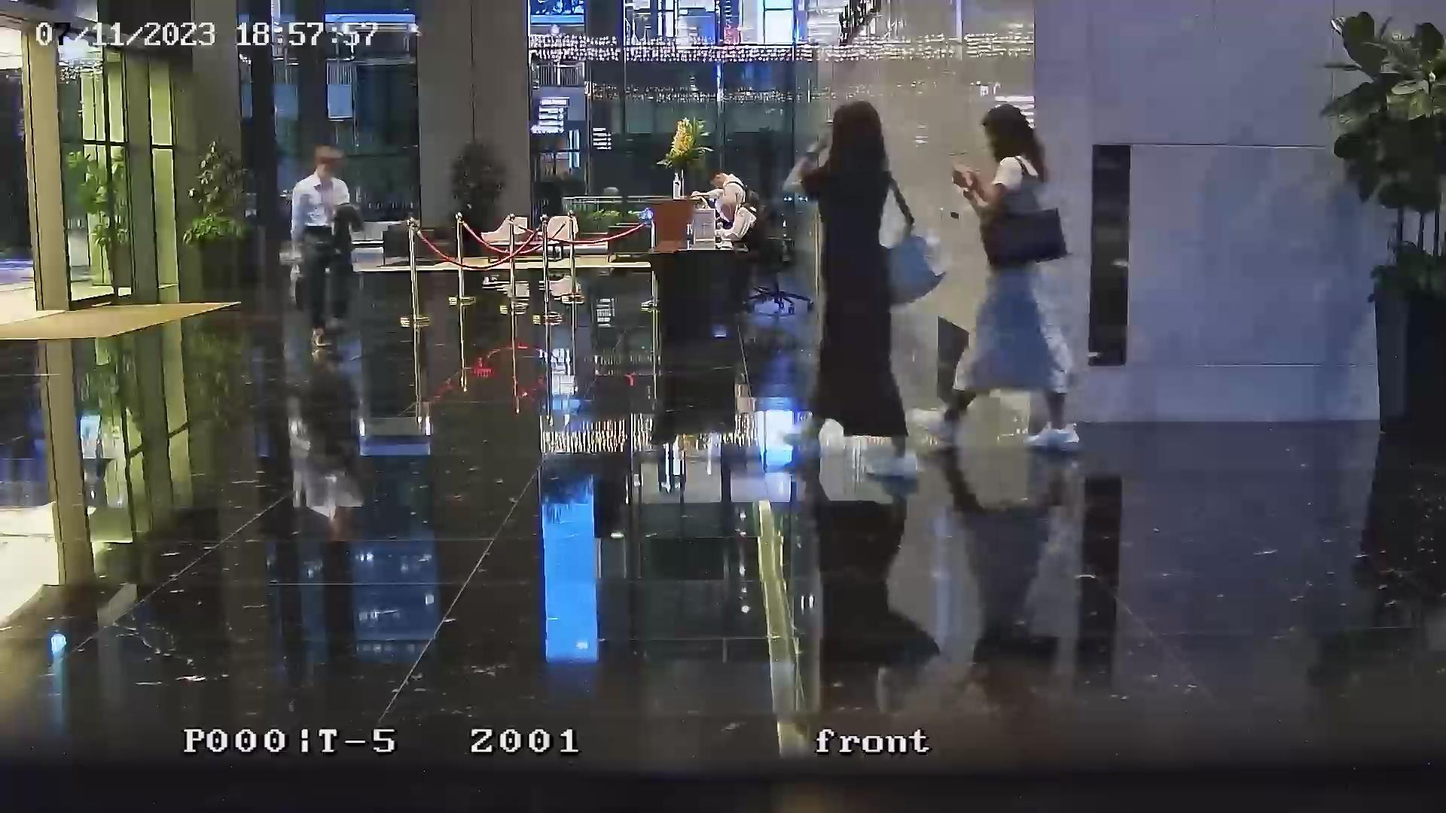person: (936, 105, 1084, 452), (785, 99, 911, 446), (288, 144, 357, 333), (715, 195, 771, 264), (706, 169, 748, 204)
